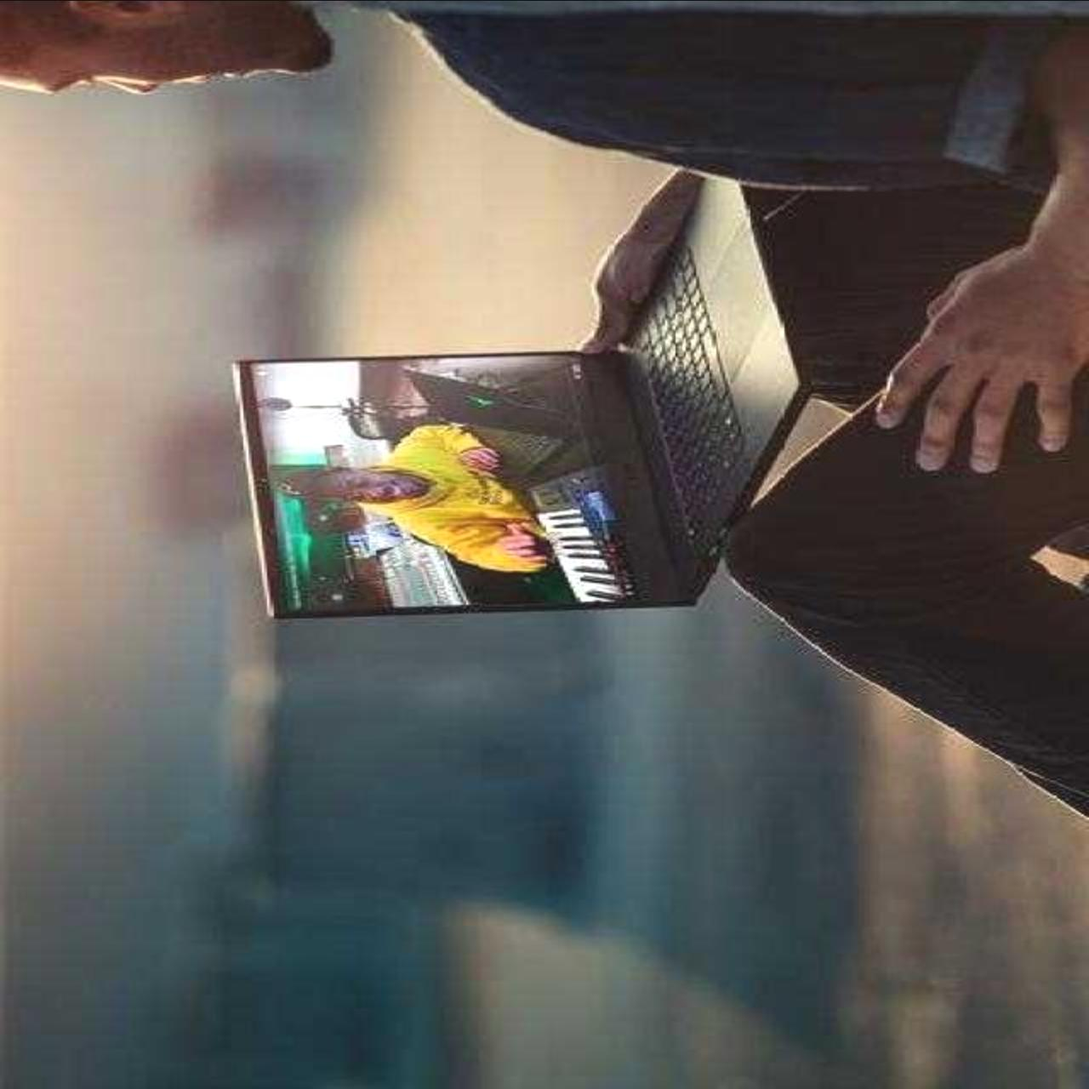laptop: (233, 168, 883, 669)
